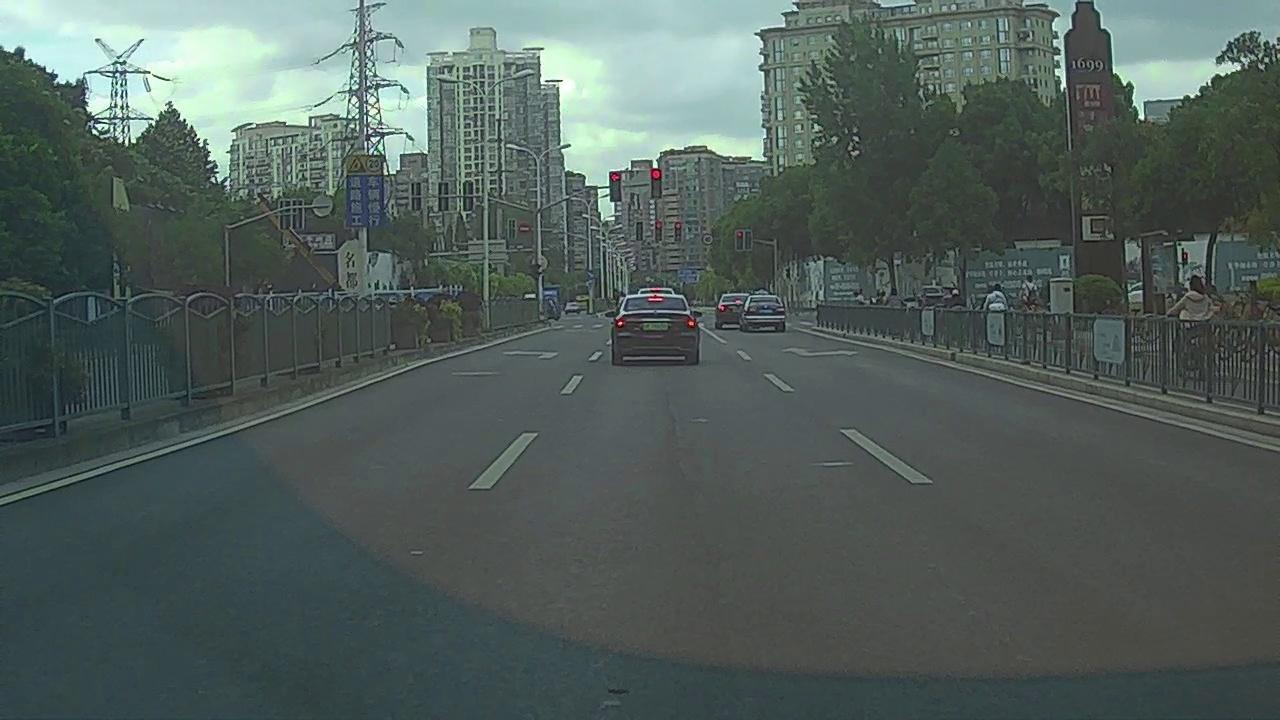traffic_light: (609, 171, 621, 203), (650, 169, 661, 200), (743, 231, 753, 251), (653, 219, 662, 239), (635, 222, 643, 241), (735, 232, 743, 250), (674, 222, 681, 240)
